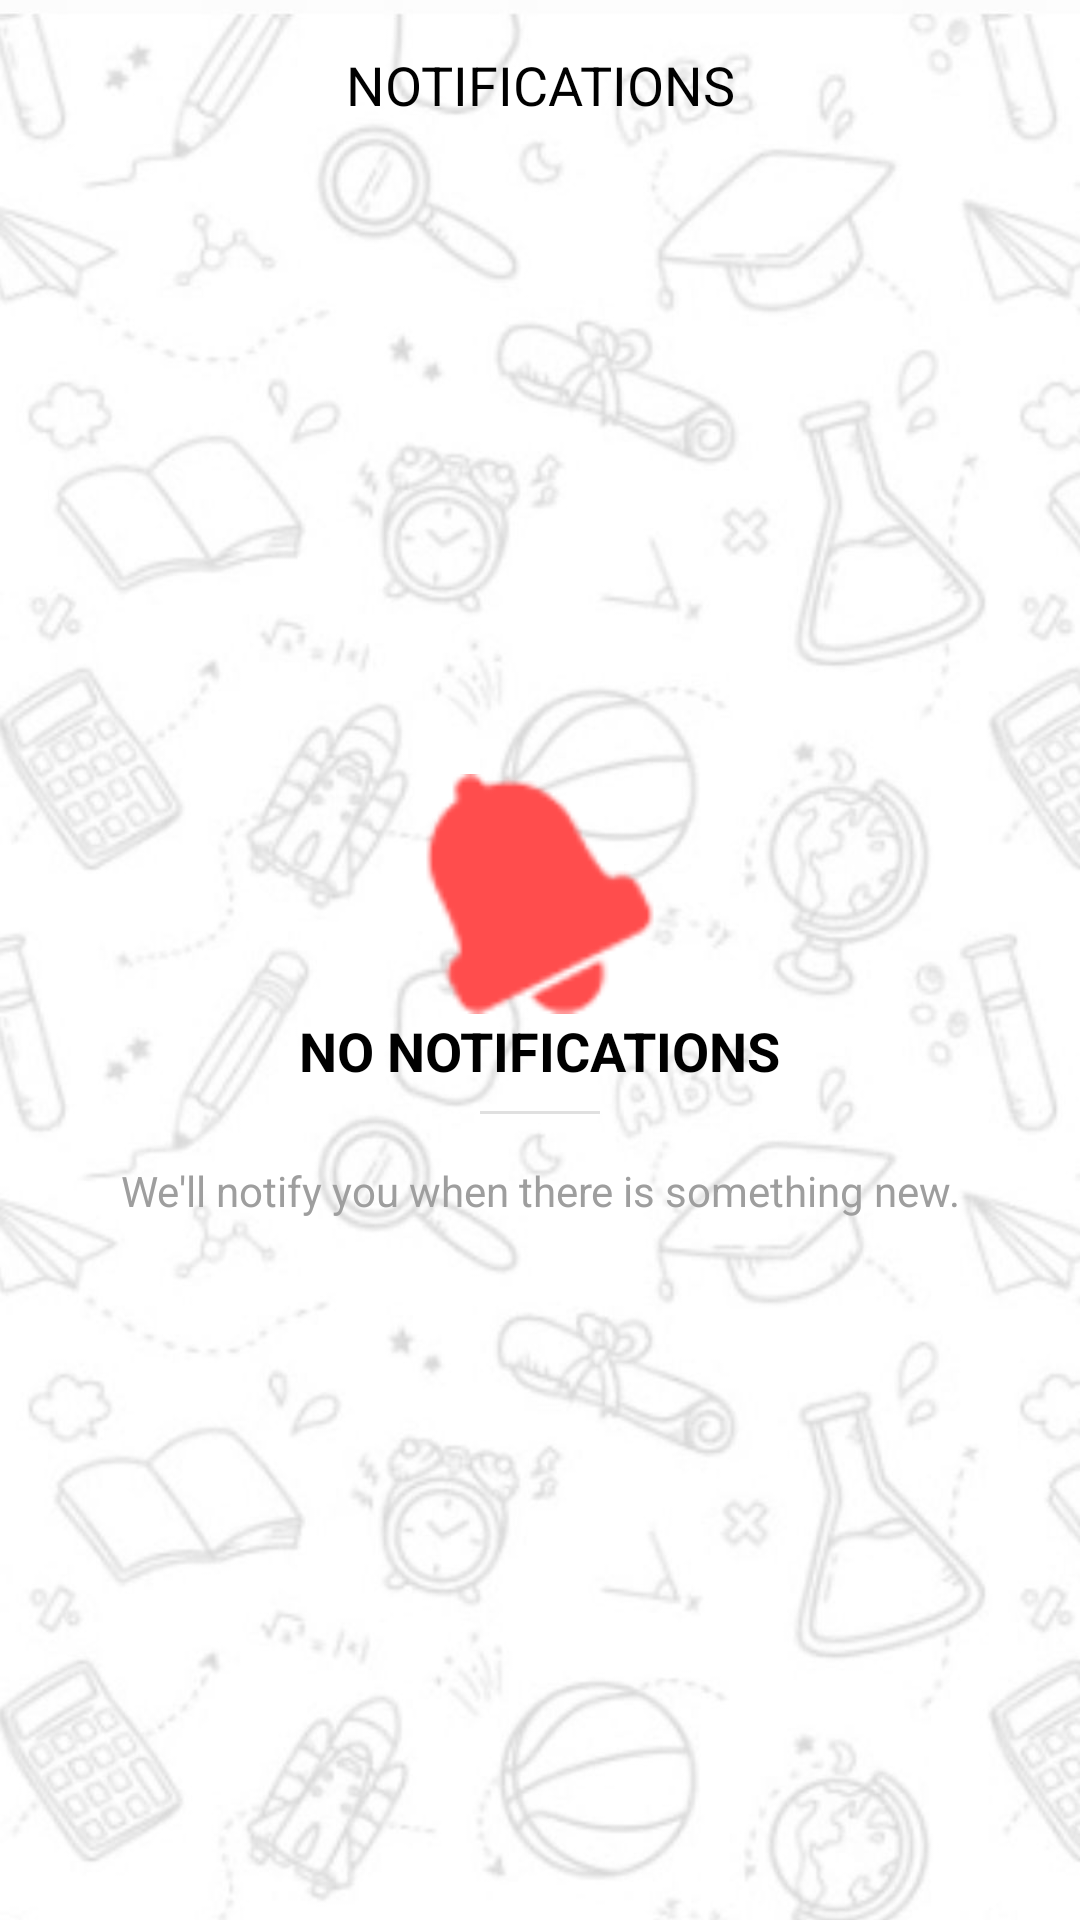

Point at icon controls on the screen. Image size 1080×1920, points as [x,y].
popup reminder: [540,894]
